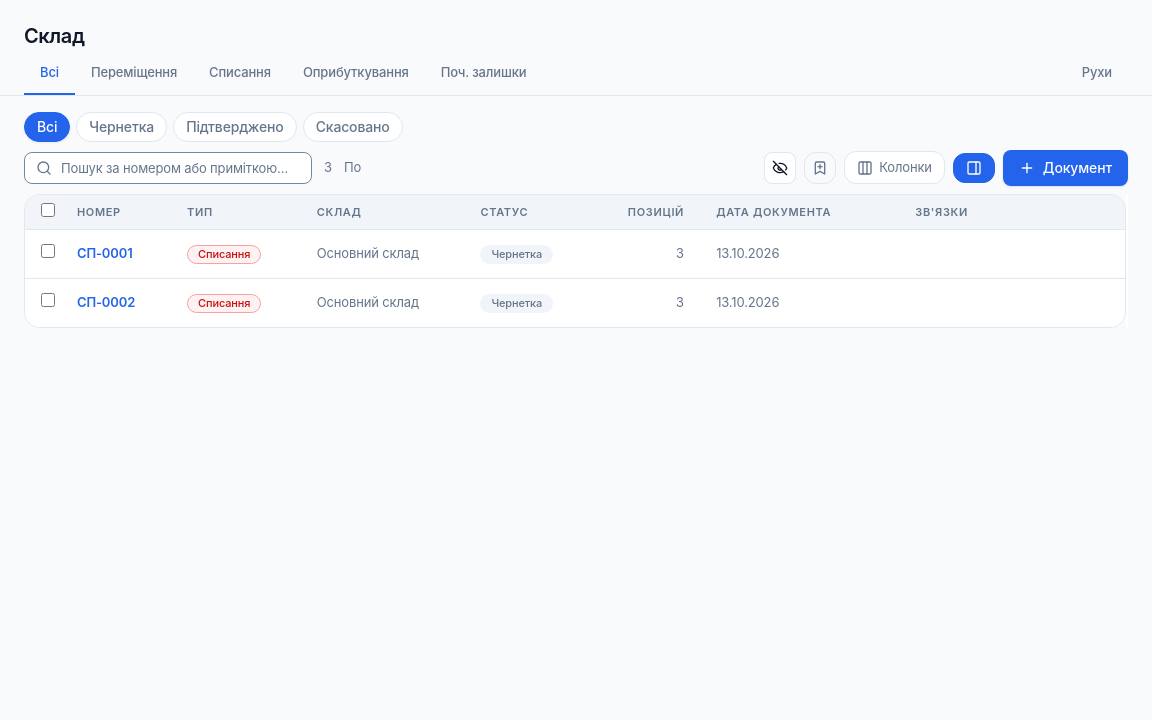
Test: Складські документи — бокова панель › вимкнули панель тоглом → вибір скинуто: після вмикання клік по тому ж рядку ВІДКРИВАЄ панель
expect the link "СП-0001" is shown: met, box left=77, top=245, right=132, bottom=261
Click the text "СП-0001" at (575, 254), box left=25, top=230, right=1125, bottom=278
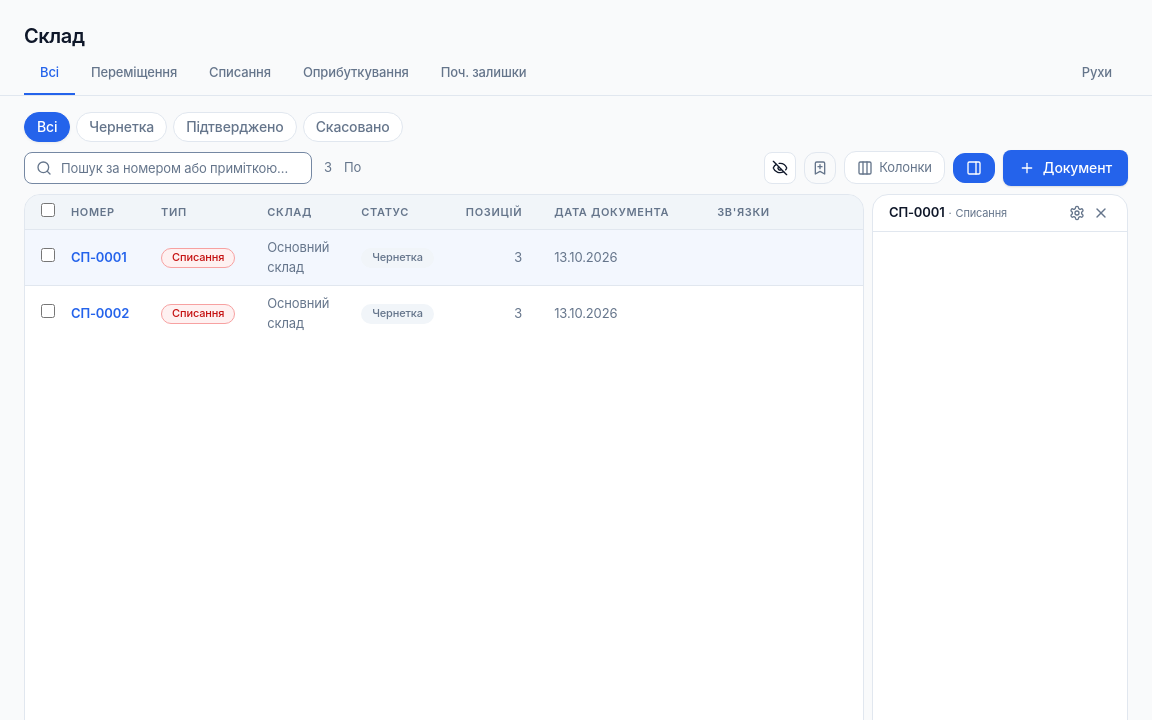
Click the button named "Сховати бокову панель" at (974, 168), box left=953, top=152, right=995, bottom=182
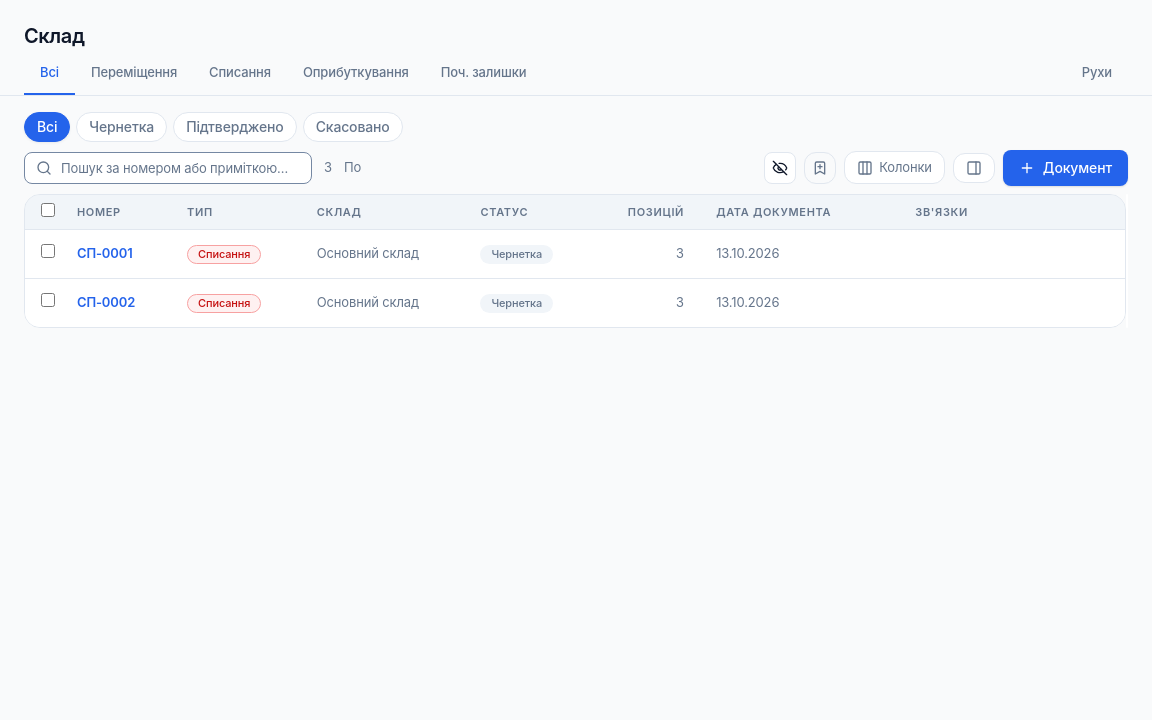
expect the text "СП-0001" does not have class "bg-primary/5": met, box left=25, top=230, right=1125, bottom=278
Click the button named "Показати бокову панель" at (974, 168), box left=953, top=152, right=995, bottom=182
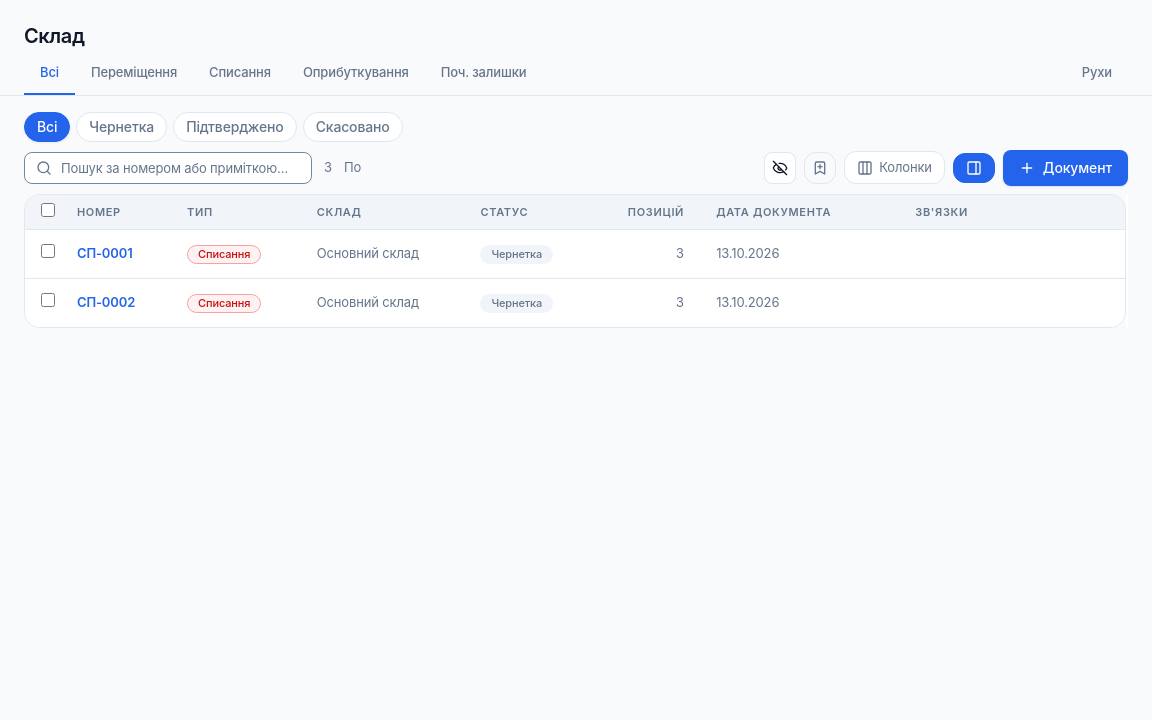
Click the text "СП-0001" at (575, 254), box left=25, top=230, right=1125, bottom=278
(page scrolled)
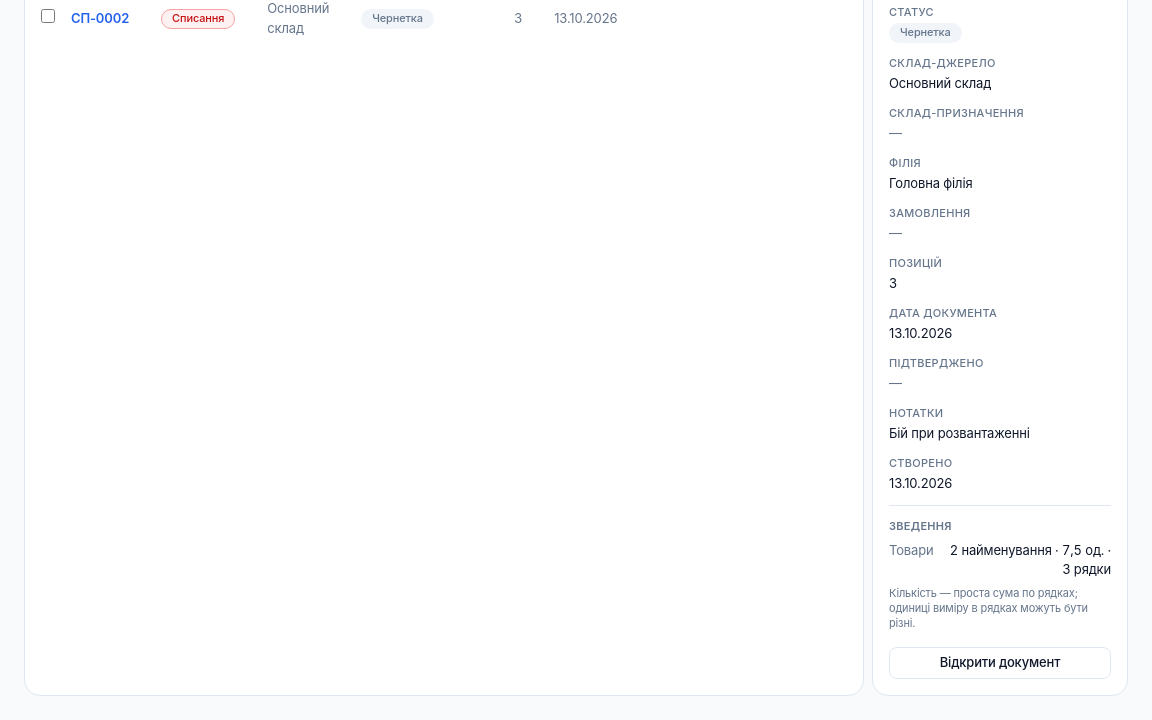
expect the element with test id "lines-summary" is shown: met, box left=889, top=505, right=1111, bottom=631
